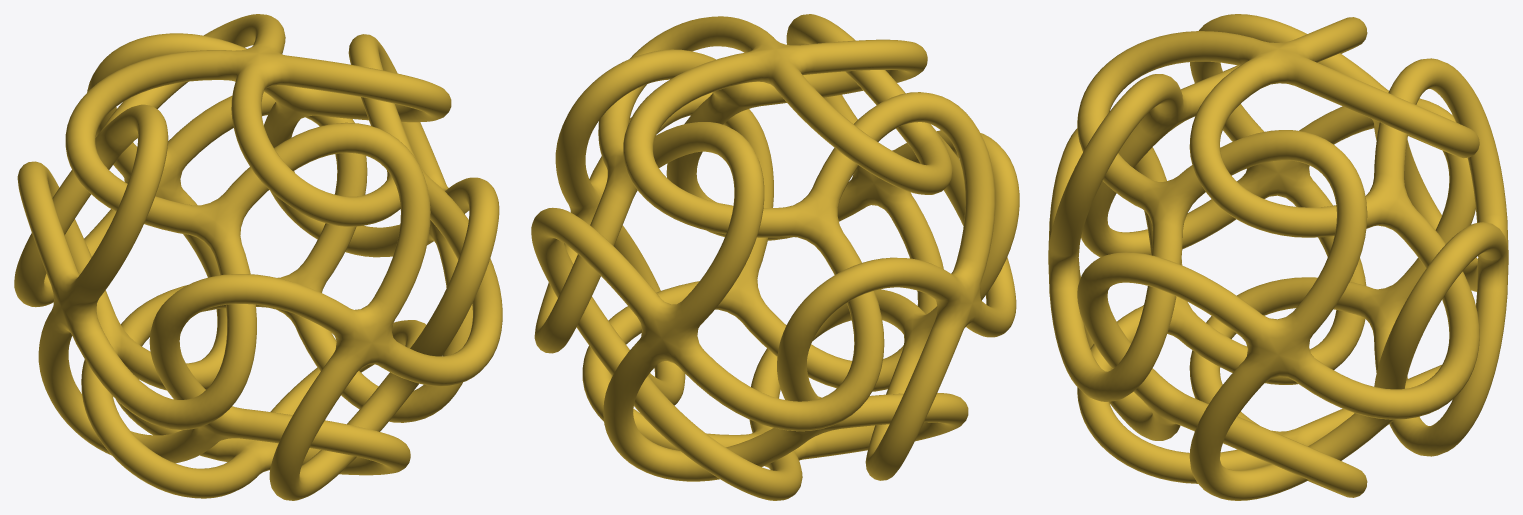
The model's file is curvestuff.glb.
3 renders of one model, left to right at view 1: azimuth 30°, elevation 25°; view 2: azimuth 150°, elevation 25°; view 3: azimuth 270°, elevation 25°, orthographic.
Parts seen in each view (by area): view 1: BezierCurve.004; view 2: BezierCurve.004; view 3: BezierCurve.004.
Part boxes in pixels (x1,y1,x2,y2): BezierCurve.004: [14, 14, 502, 500]; BezierCurve.004: [531, 14, 1019, 500]; BezierCurve.004: [1048, 14, 1508, 500].
Size of the model in its own units: 2.14 by 2.14 by 2.14.
